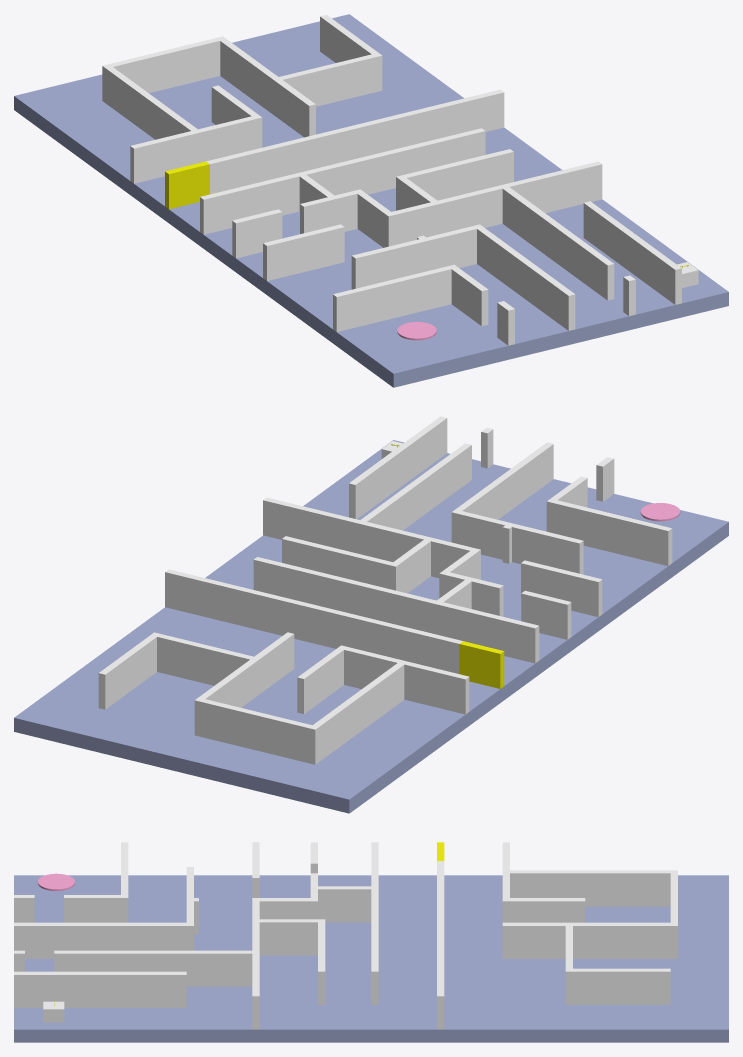
File: stage 4.fbx
3 views of the same model, one above another, from view 1: azimuth 30°, elevation 25°; view 2: azimuth 150°, elevation 25°; view 3: azimuth 270°, elevation 25° (orthographic). The views are drawn at different scales.
Visible parts, largest first — view 1: group1; view 2: group1; view 3: group1.
Part boxes in pixels (box(x1,y1,x2,y2)): group1: box(14, 14, 728, 387); group1: box(14, 416, 728, 813); group1: box(14, 842, 728, 1042).
Bounding box in the file's own units: 1200 × 168 × 2352.
